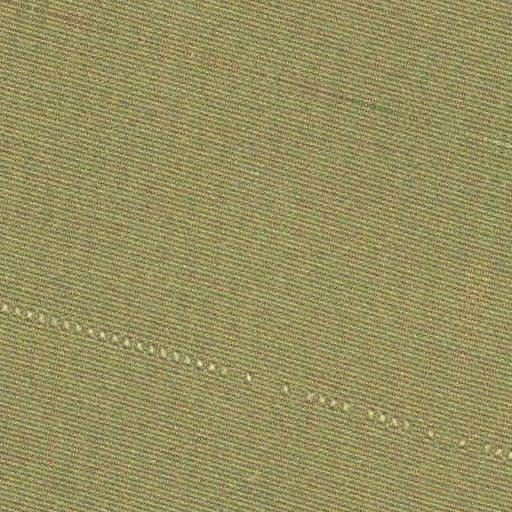slub: (1, 285, 510, 479)
